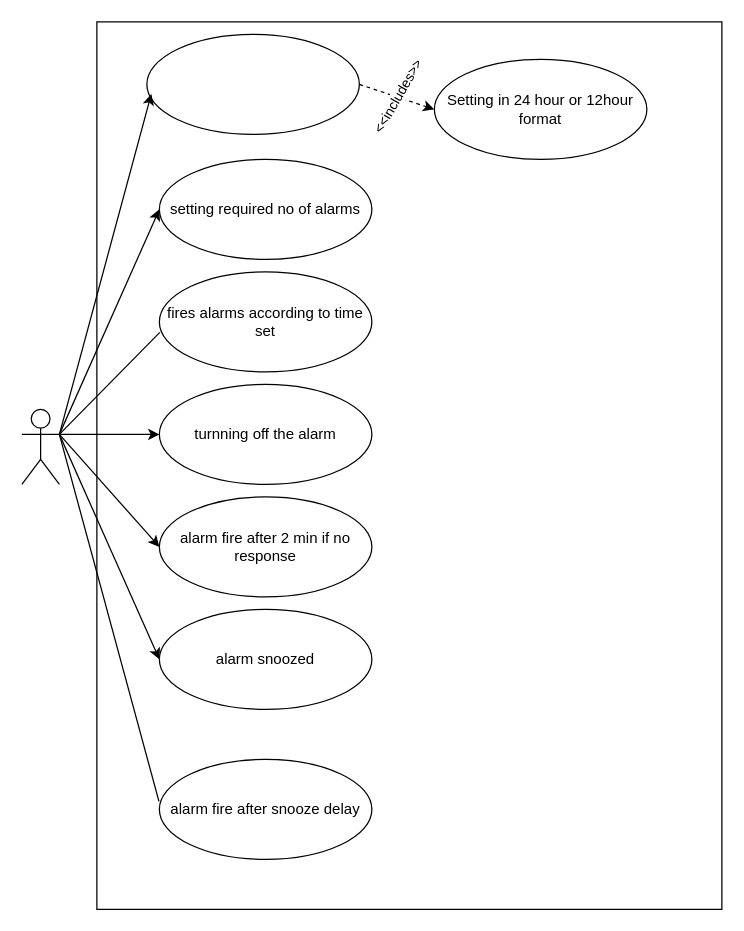
Image size: 744x931. Some labels were removed from this diagram. The box of each missing label's shape, as (x1, y1, x2, y2) in pixels:
Set time: (146, 33, 359, 134)
User: (21, 408, 59, 484)
